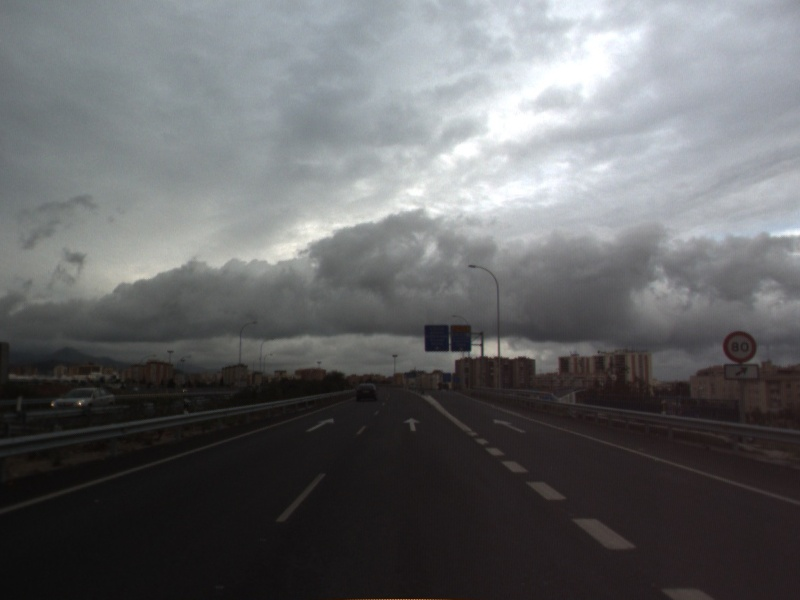STRAIGHT: (491, 416, 528, 435), (303, 416, 336, 434), (401, 415, 423, 433)
